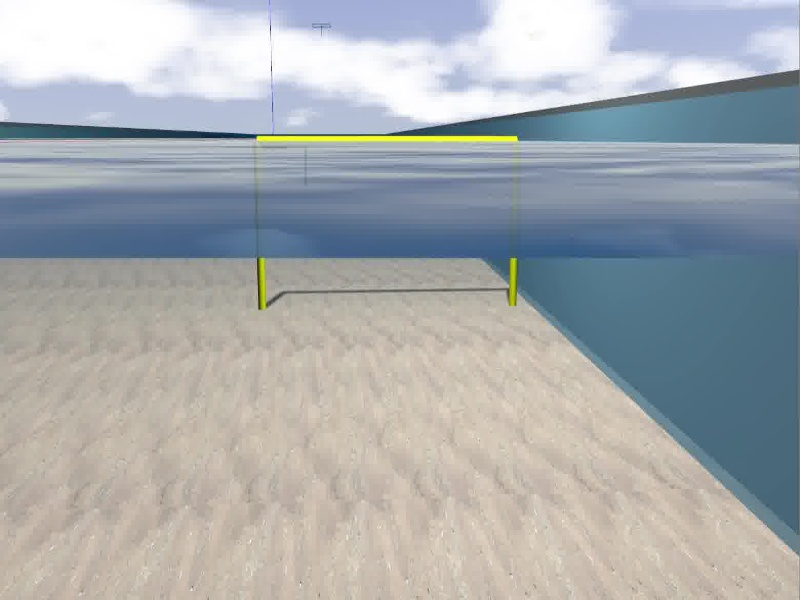gate: (251, 135, 520, 310)
